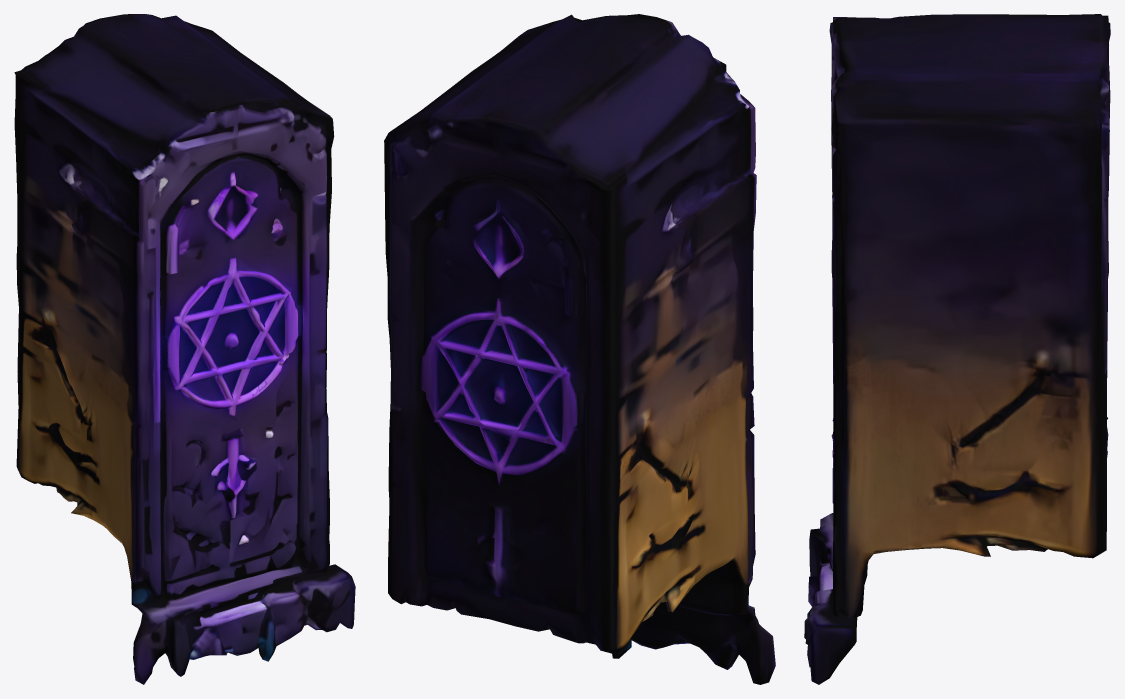
The model's file is pilar.glb.
3 renders of one model, left to right at view 1: azimuth 30°, elevation 25°; view 2: azimuth 150°, elevation 25°; view 3: azimuth 270°, elevation 25°, orthographic. The views are drawn at different scales.
Visible parts, largest first — view 1: tripo_node_dc8973bb-5fd2-4bfb-a784-097fbb8864ce; view 2: tripo_node_dc8973bb-5fd2-4bfb-a784-097fbb8864ce; view 3: tripo_node_dc8973bb-5fd2-4bfb-a784-097fbb8864ce.
Part boxes in pixels (<box>): tripo_node_dc8973bb-5fd2-4bfb-a784-097fbb8864ce: <box>14,14,355,684</box>; tripo_node_dc8973bb-5fd2-4bfb-a784-097fbb8864ce: <box>384,14,775,684</box>; tripo_node_dc8973bb-5fd2-4bfb-a784-097fbb8864ce: <box>804,14,1110,684</box>.
Size of the model in its own units: 0.4021 by 0.9818 by 0.4437.
1 material, 1 textured.
